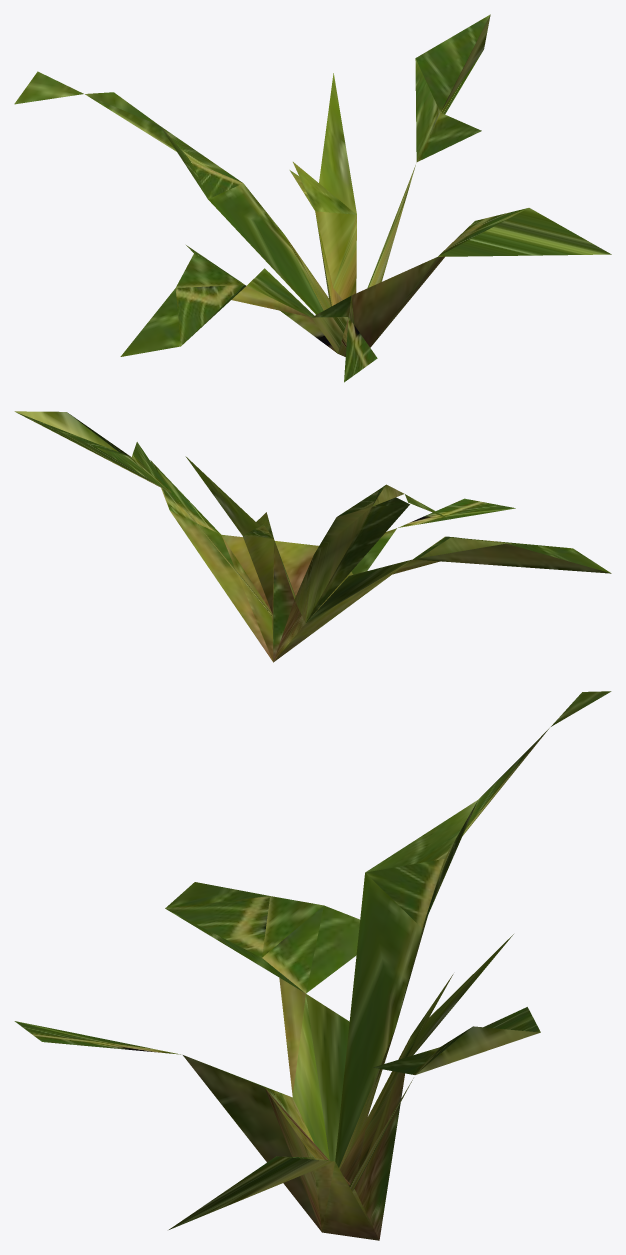
The model's file is fo_shade_fern_lod2.glb.
The picture shows the model from 3 angles, top to bottom: view 1: azimuth 30°, elevation 25°; view 2: azimuth 150°, elevation 25°; view 3: azimuth 270°, elevation 25°; orthographic projection. The views are drawn at different scales.
Parts seen in each view (by area): view 1: output_unwrapped; view 2: output_unwrapped; view 3: output_unwrapped.
Boxes of the visible parts, bbox=[...] form: output_unwrapped: bbox=[14, 14, 611, 382]; output_unwrapped: bbox=[14, 411, 611, 662]; output_unwrapped: bbox=[14, 691, 611, 1240].
Size of the model in its own units: 1.48 by 0.7954 by 1.09.
Materials: 1 (1 with a texture image).
